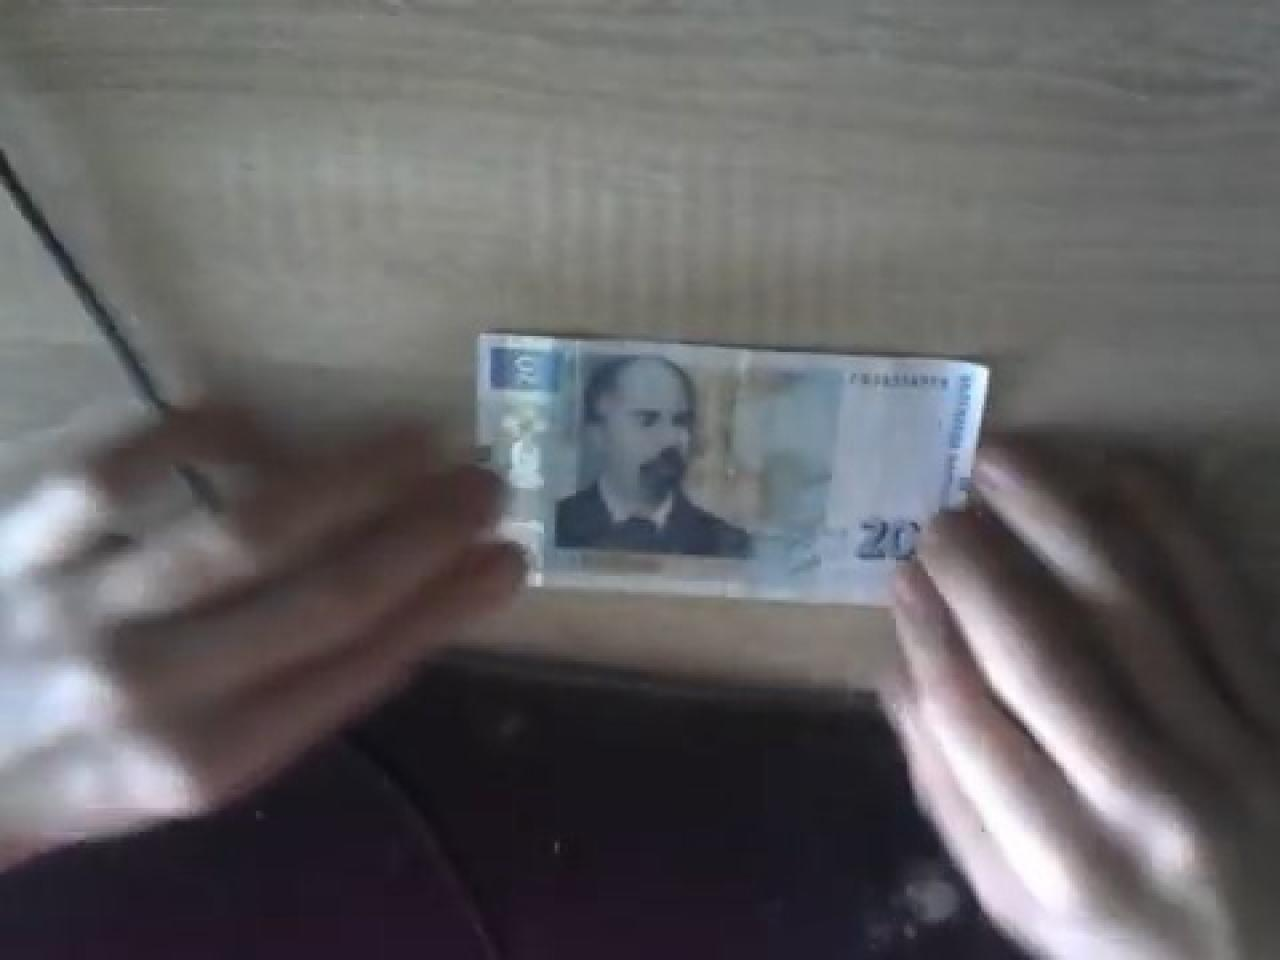20leva: (472, 328, 992, 605)
